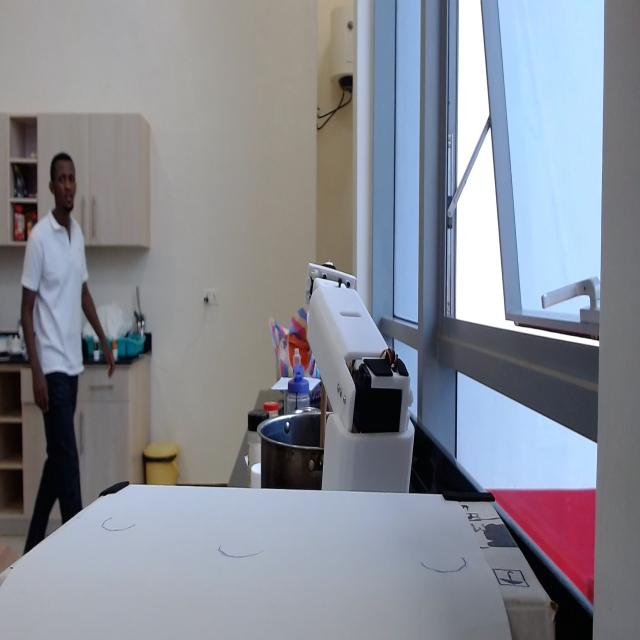cooking_pot: (261, 406, 332, 491)
